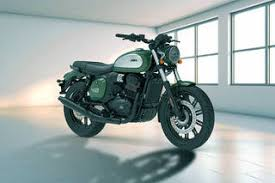motorcycle: (53, 29, 218, 150)
